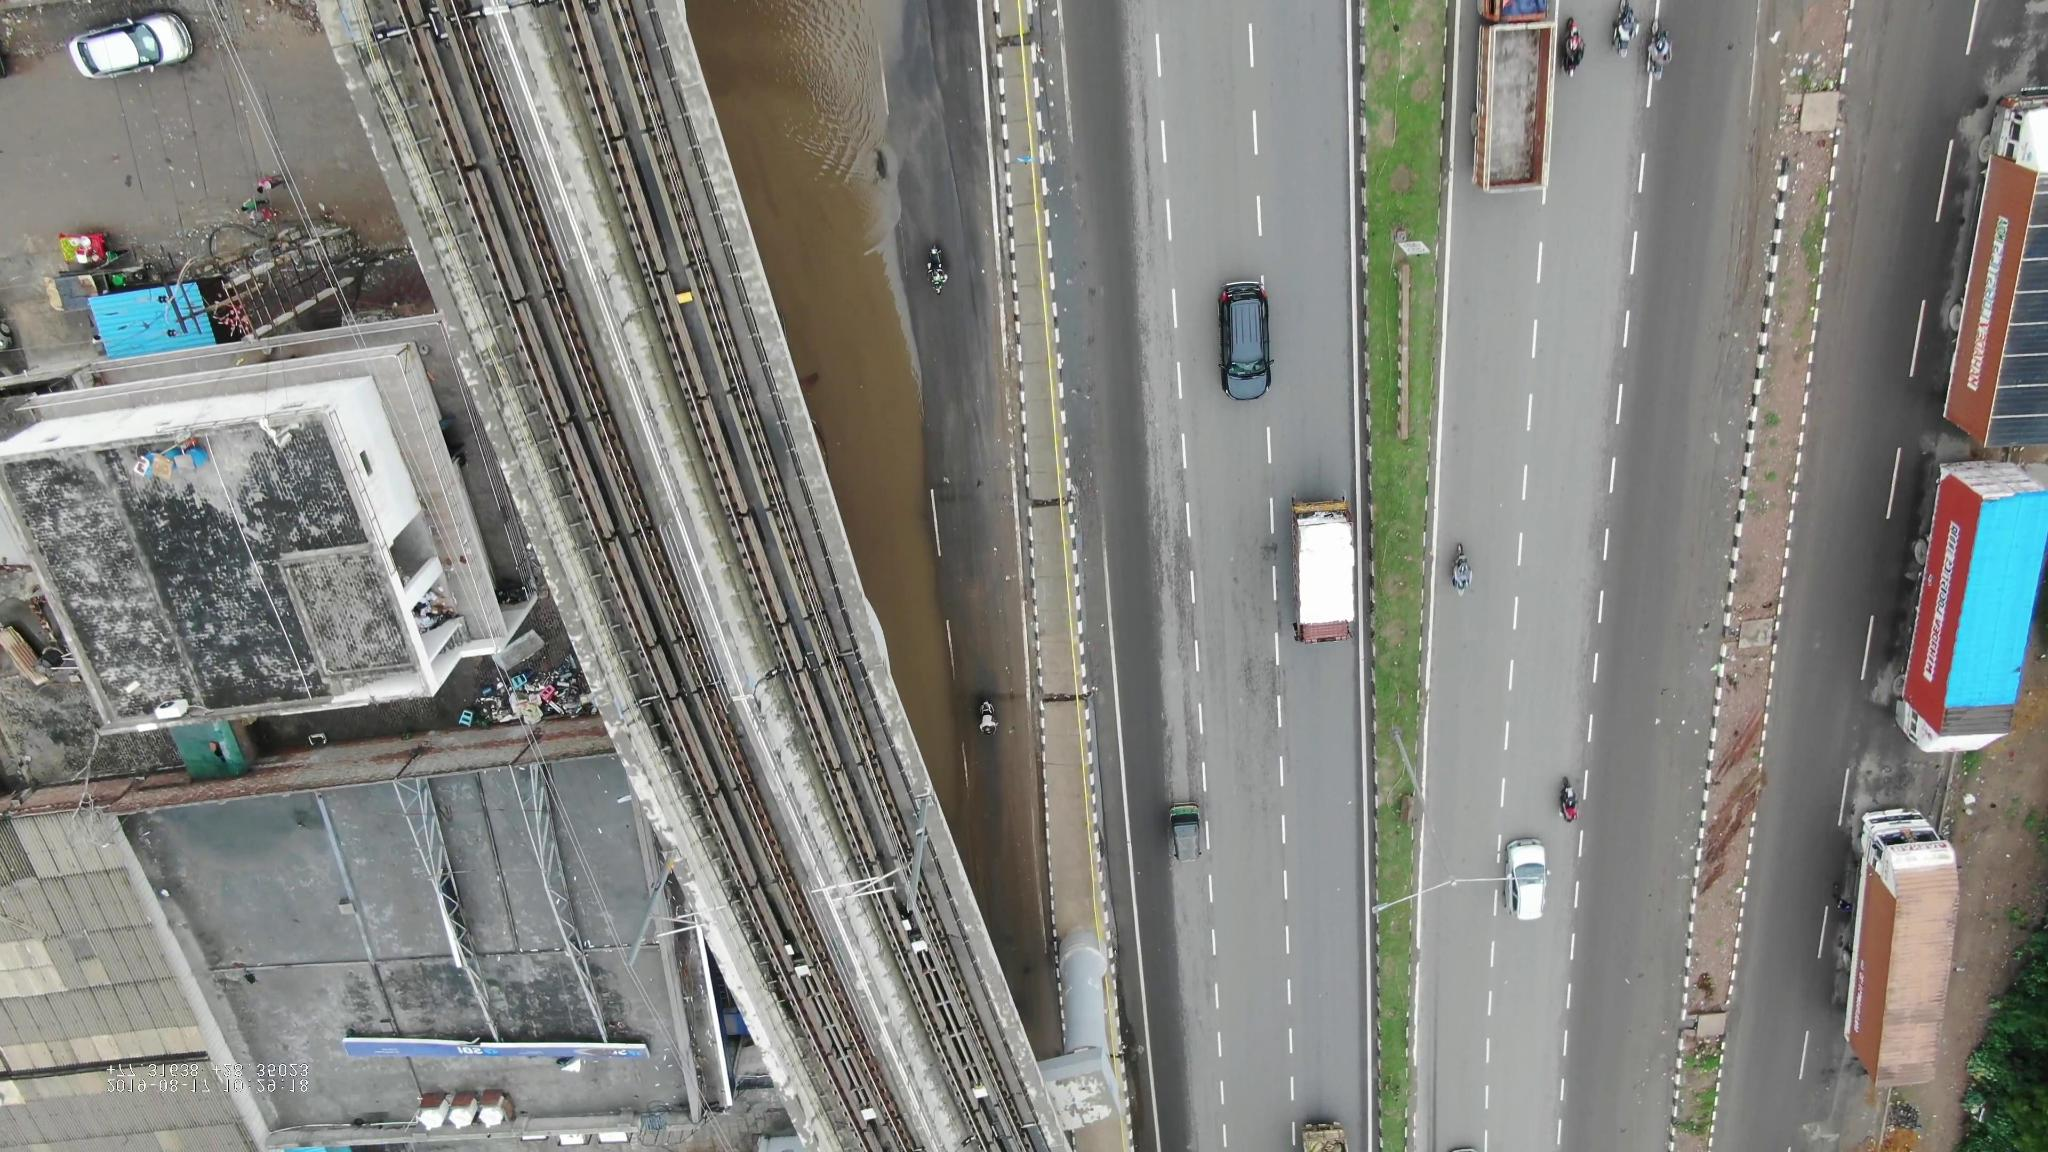Ravelling: (1224, 568, 1277, 824)
Waterlogging: (679, 15, 902, 267), (764, 279, 928, 492), (826, 511, 942, 644)
